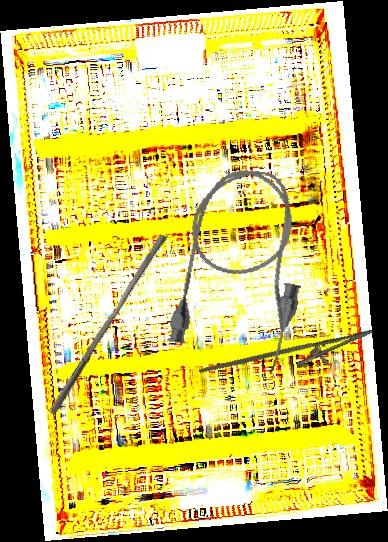Cannula: (164, 160, 320, 376)
Needle Holder: (198, 308, 378, 407)
Pusher: (48, 230, 168, 420)
